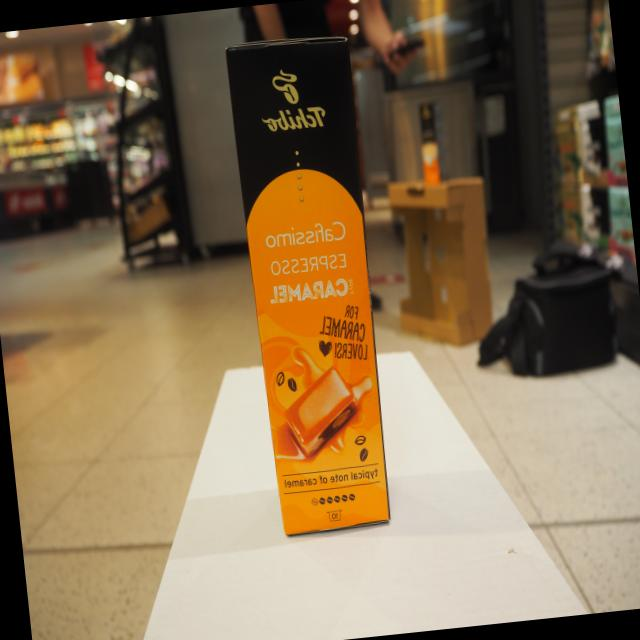Simo Es Caramel: (222, 30, 392, 540)
